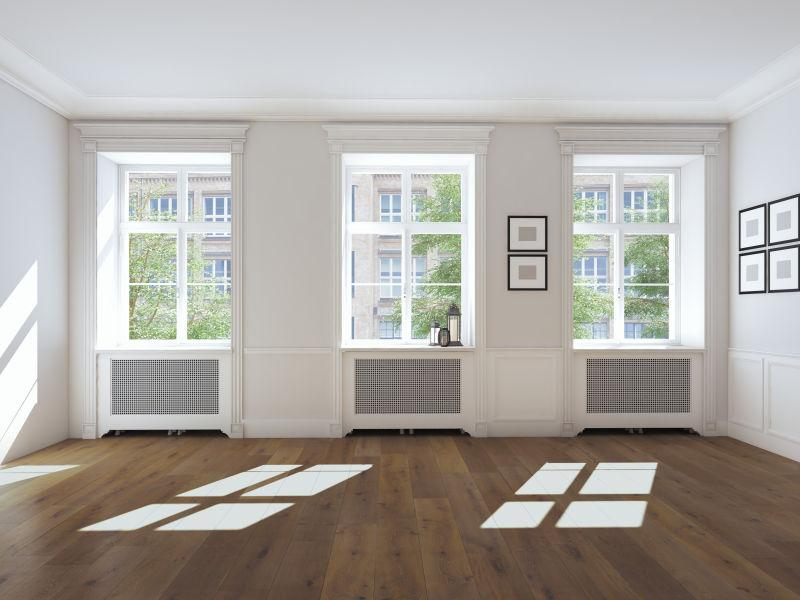wall: (70, 119, 726, 435), (727, 86, 800, 464), (1, 80, 71, 467)
window: (98, 154, 233, 349), (340, 151, 474, 347), (573, 153, 704, 348)
